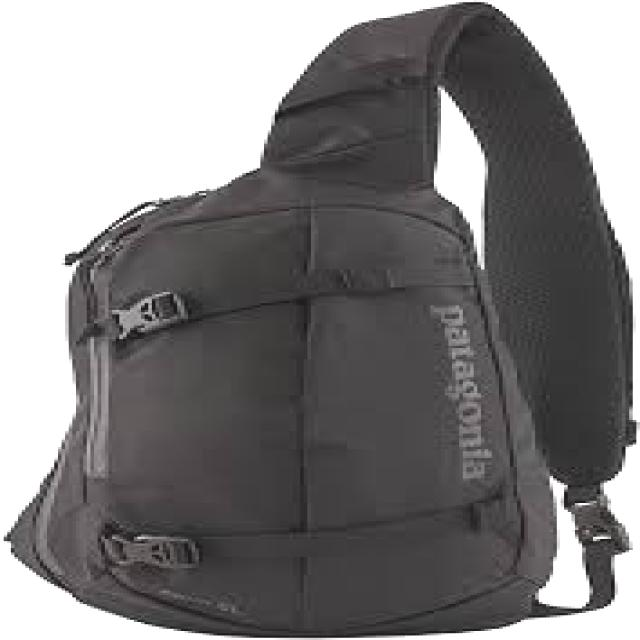backpack: (1, 1, 637, 639)
